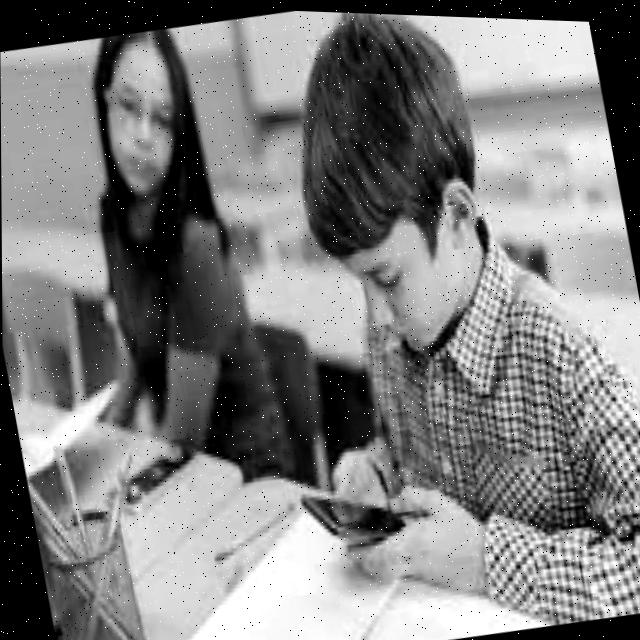phone: (295, 470, 407, 551)
